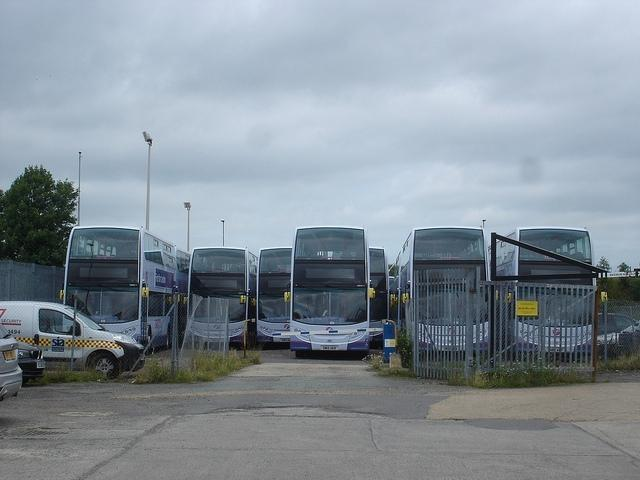bus: (62, 228, 186, 351), (498, 230, 598, 360), (282, 228, 376, 360), (396, 232, 488, 357), (186, 240, 260, 340), (258, 249, 292, 347), (370, 248, 391, 348)
car: (2, 300, 142, 368), (0, 322, 23, 400), (598, 312, 638, 354), (15, 340, 48, 388)
